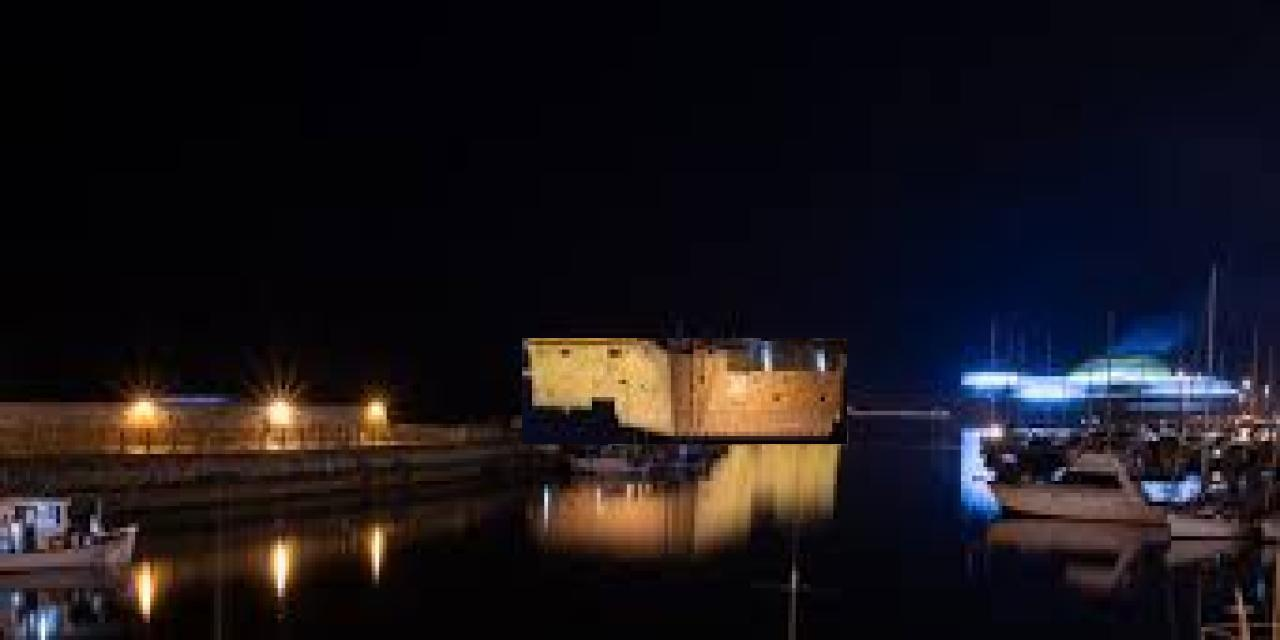Kules: (523, 339, 848, 445)
